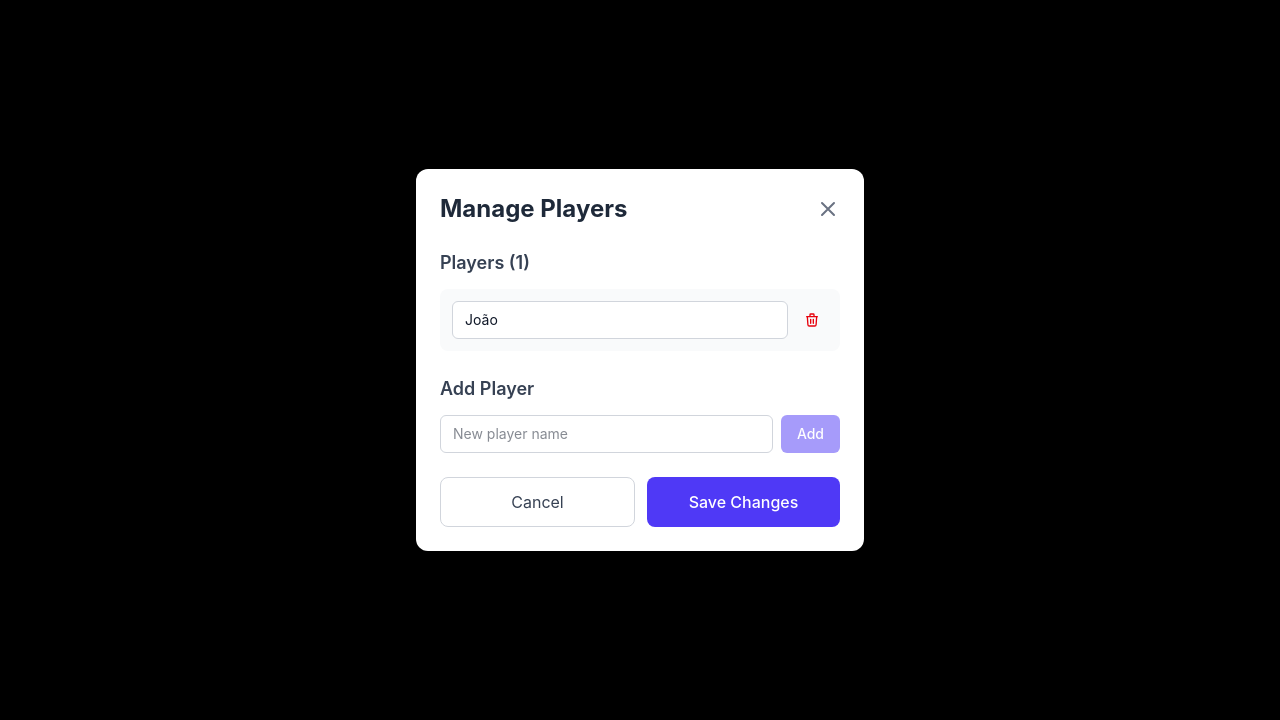
it: PlayerManagerModal › tests validation of name with spaces
Type "  Pedro  " into the field with placeholder "New player name".
click(606, 434); type("  Pedro  ")  # box x1=440 y1=415 x2=773 y2=453
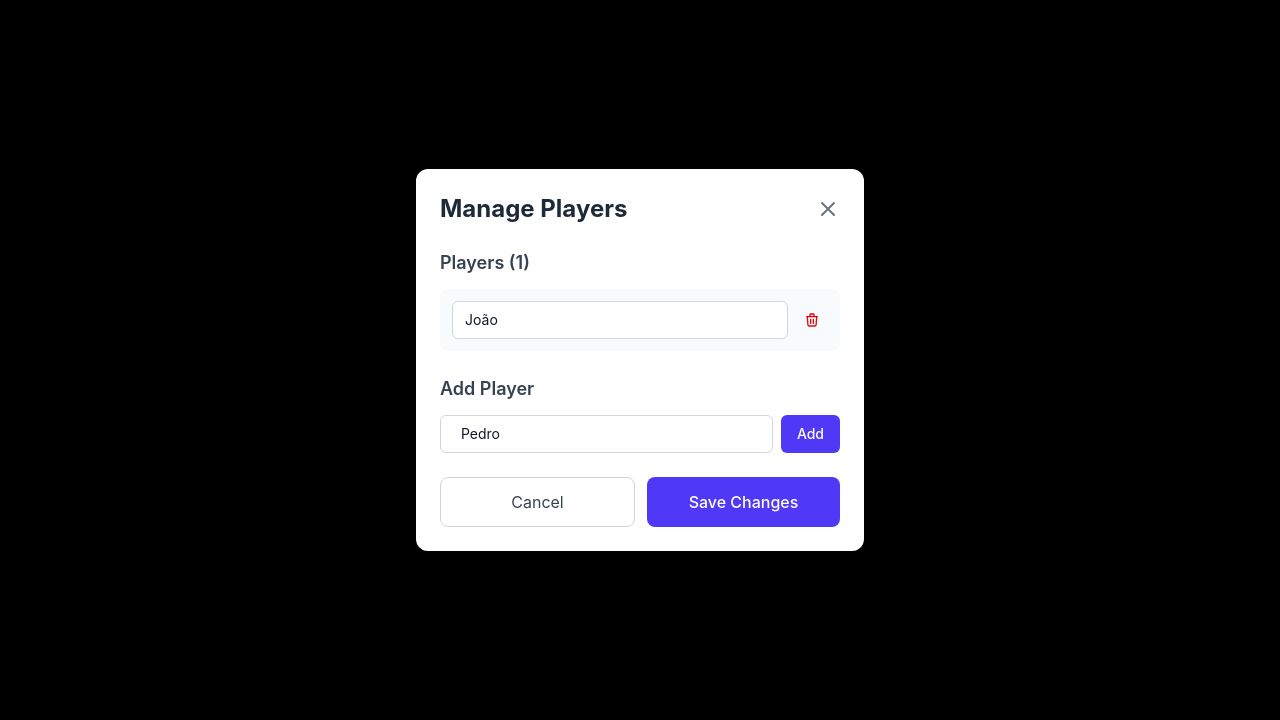
Click the button "Add".
click(810, 434)  # box x1=781 y1=415 x2=840 y2=453
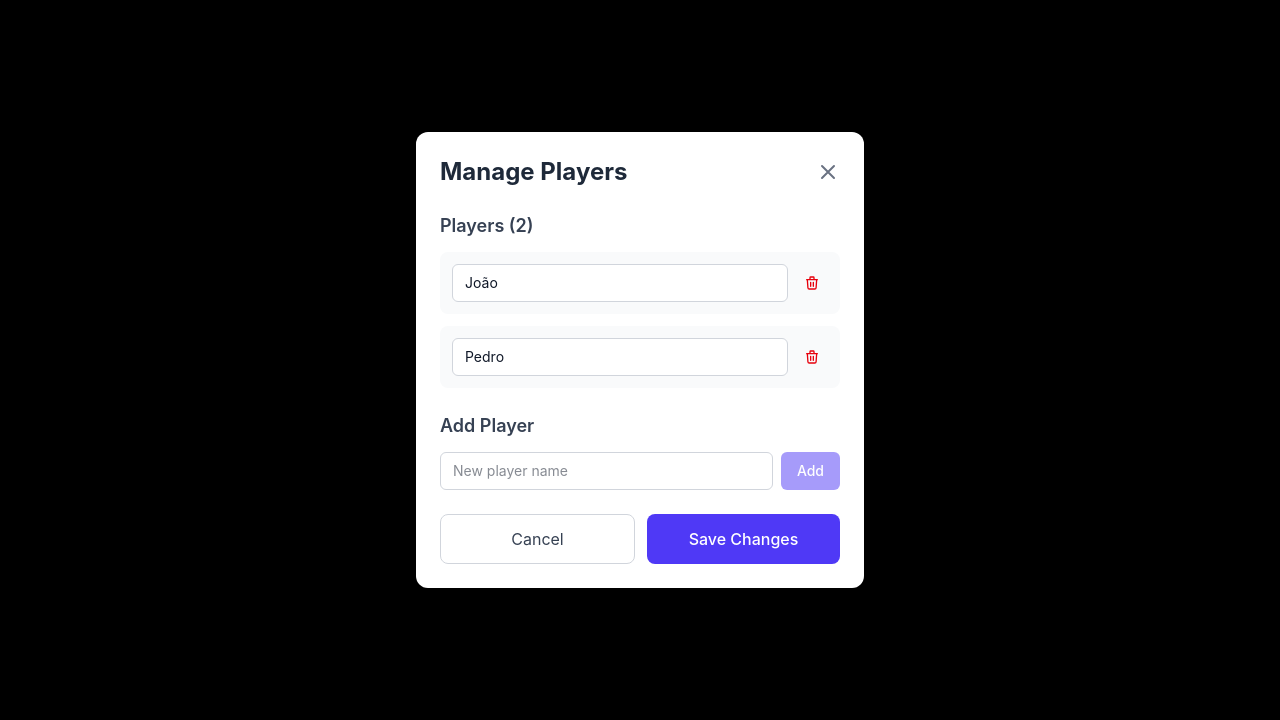
Now the 2nd field showing "Pedro" is shown, box x1=452 y1=338 x2=788 y2=376
